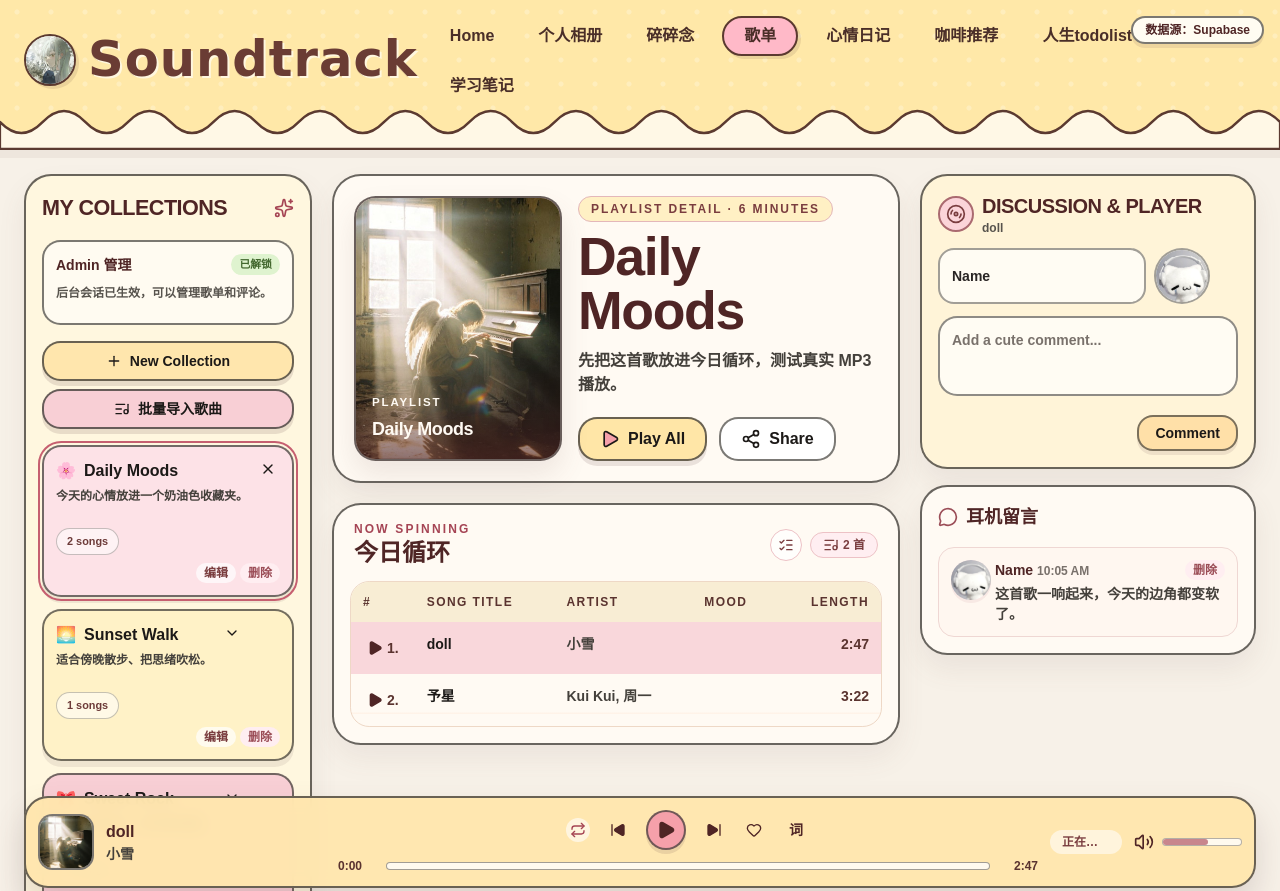
PlaylistsPageView › opens the batch import dialog
Expected: the text "已解锁" is shown, [231,254,280,275]
Click the button "批量导入歌曲".
click(168, 409)  # box [42,389,294,429]
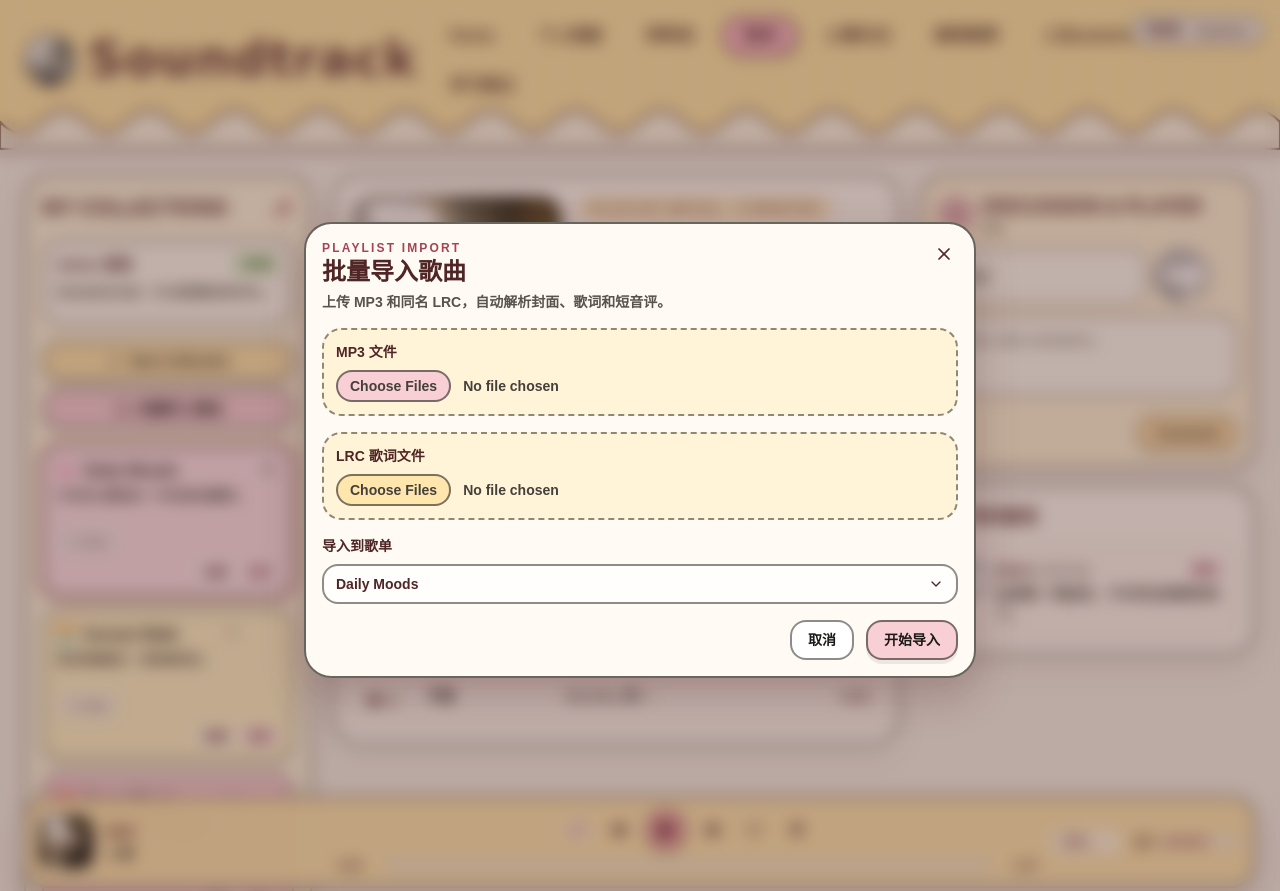
Result: the element labelled "批量导入歌曲" is shown at [304,222,976,678]
Result: the text "上传 MP3 和同名 LRC，自动解析封面、歌词和短音评。" is shown at [322,292,671,312]
Click the dropdown named "导入到歌单".
click(377, 584)  # box [322,564,958,604]
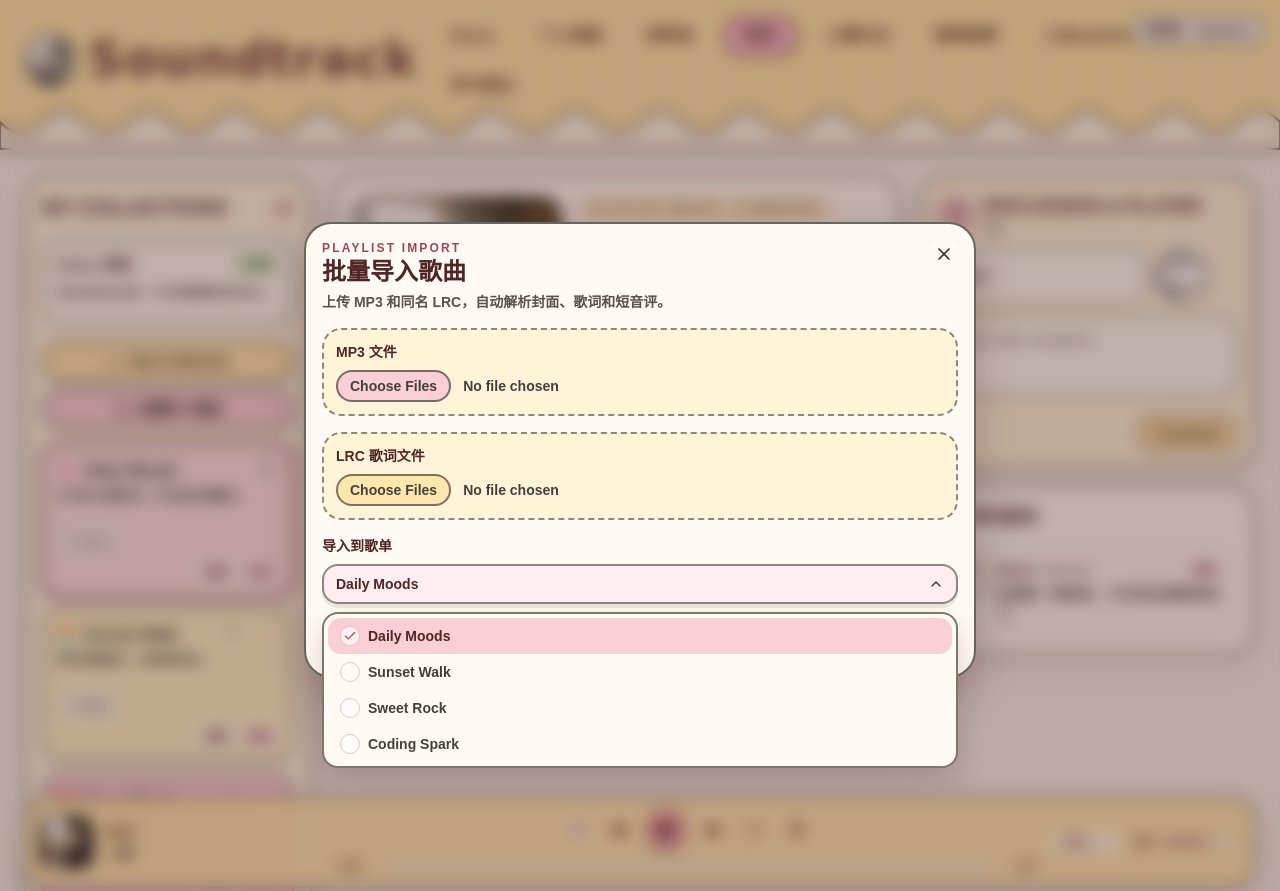
Click the option "Coding Spark".
click(400, 744)  # box [340,734,459,754]
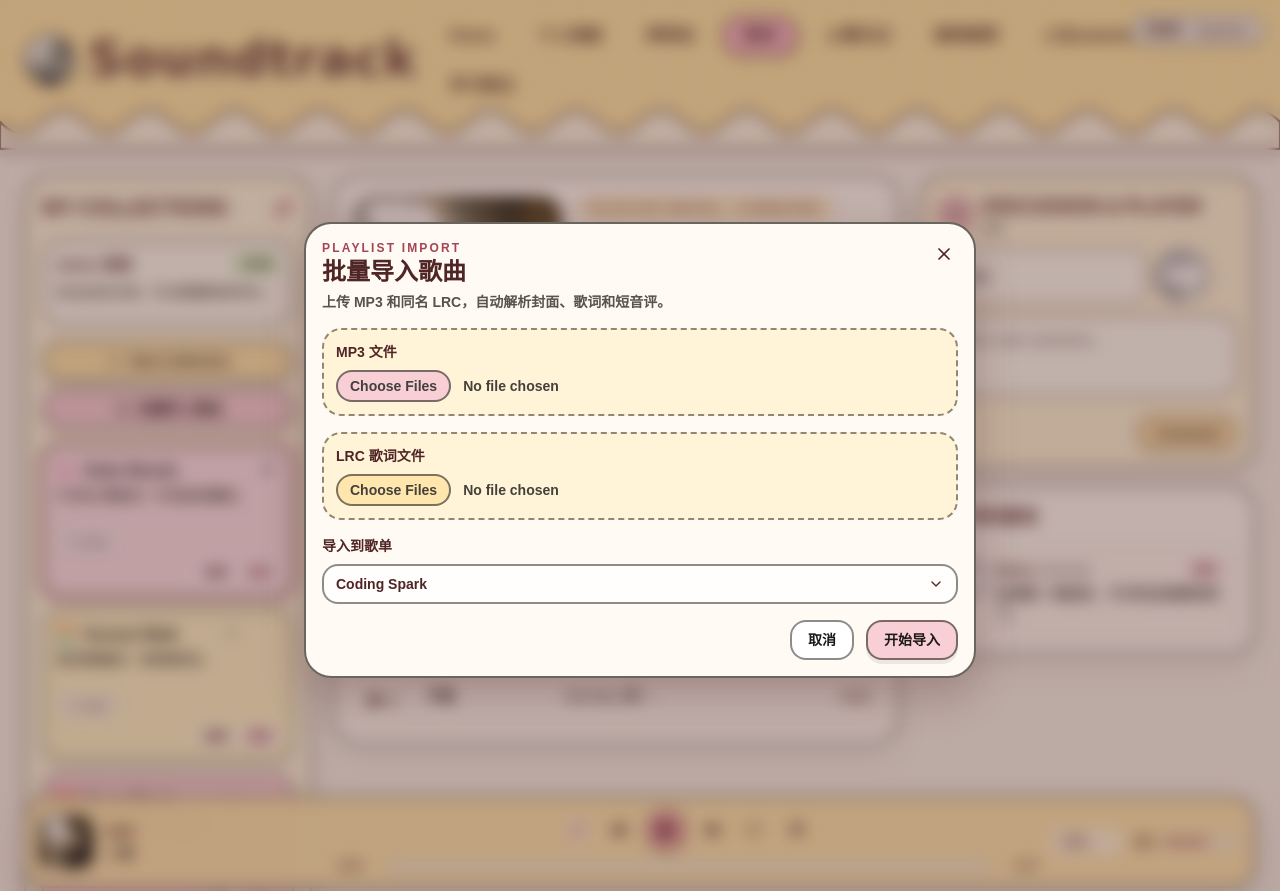
Result: the dropdown named "导入到歌单" reads "Coding Spark" at [322,564,958,604]
